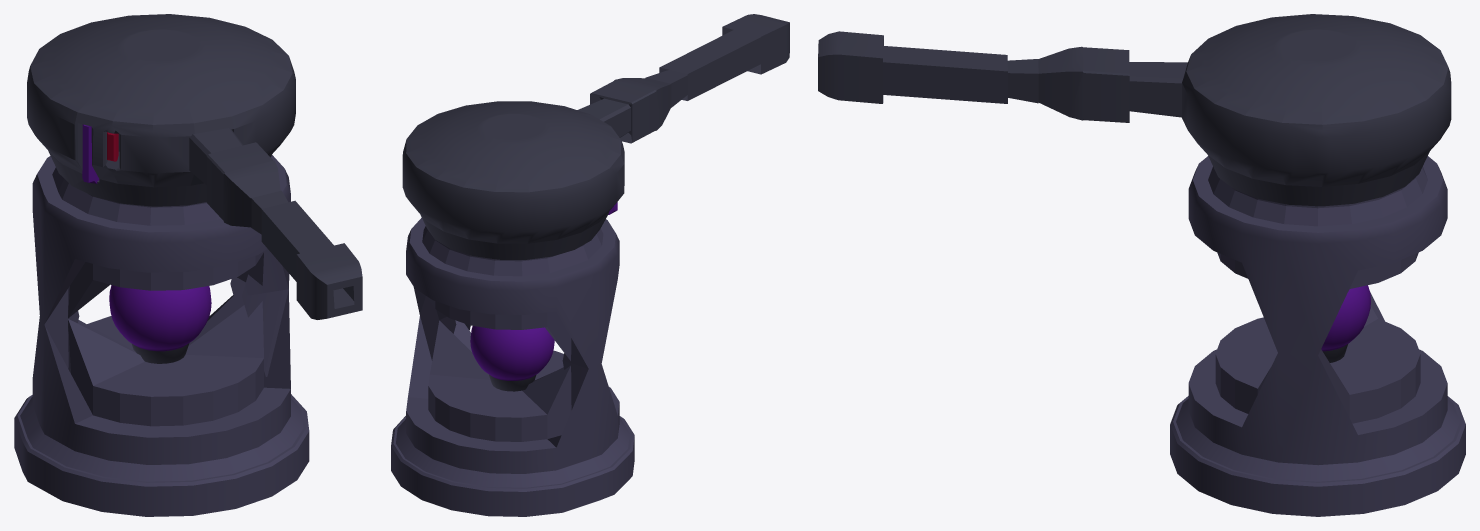
Rendered from MoonTurrent.fbx.
3 renders of one model, left to right at view 1: azimuth 30°, elevation 25°; view 2: azimuth 150°, elevation 25°; view 3: azimuth 270°, elevation 25°, orthographic. The views are drawn at different scales.
Visible parts, largest first — view 1: pCylinder4, pCylinder2, pSphere1, pCube6; view 2: pCylinder4, pCylinder2, pSphere1; view 3: pCylinder4, pCylinder2, pSphere1.
Boxes of the visible parts, left/top/right/bottom form: pCylinder4: left=14, top=155, right=309, bottom=516; pCylinder2: left=27, top=14, right=362, bottom=319; pSphere1: left=109, top=285, right=211, bottom=363; pCube6: left=82, top=124, right=99, bottom=183; pCylinder4: left=391, top=217, right=634, bottom=516; pCylinder2: left=402, top=14, right=789, bottom=259; pSphere1: left=470, top=326, right=554, bottom=391; pCylinder4: left=1170, top=156, right=1465, bottom=516; pCylinder2: left=818, top=14, right=1451, bottom=206; pSphere1: left=1321, top=285, right=1370, bottom=362.
Bounding box in the file's own units: 3.22 × 4.91 × 7.06.
